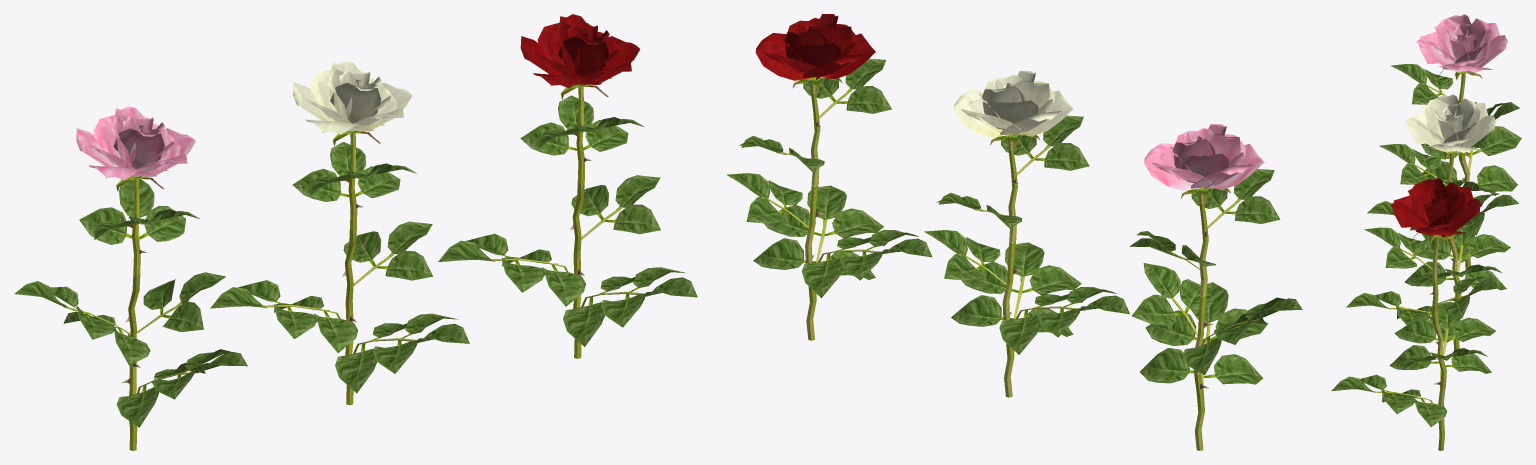
Rendered from flower_rose.glb.
The picture shows the model from 3 angles, left to right: view 1: azimuth 30°, elevation 25°; view 2: azimuth 150°, elevation 25°; view 3: azimuth 270°, elevation 25°; orthographic projection. The views are drawn at different scales.
Parts seen in each view (by area): view 1: flower_rose; view 2: flower_rose; view 3: flower_rose.
Boxes of the visible parts, box(x1,y1,x2,y2) form: flower_rose: box(14, 14, 697, 450); flower_rose: box(726, 14, 1302, 450); flower_rose: box(1331, 14, 1521, 450).
Size of the model in its own units: 1.4 by 0.72 by 0.4706.
Materials: 1 (1 with a texture image).
